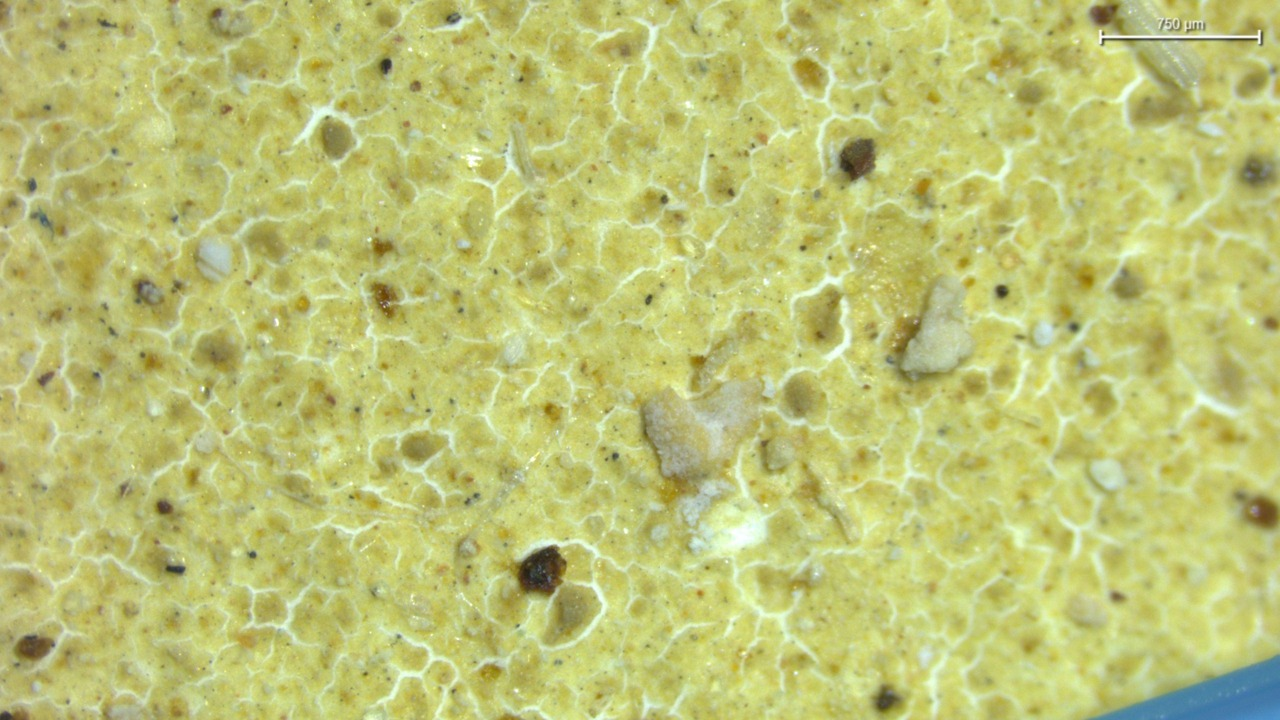microplastic_fragment: (643, 379, 760, 481), (898, 276, 974, 377), (196, 239, 231, 280)
